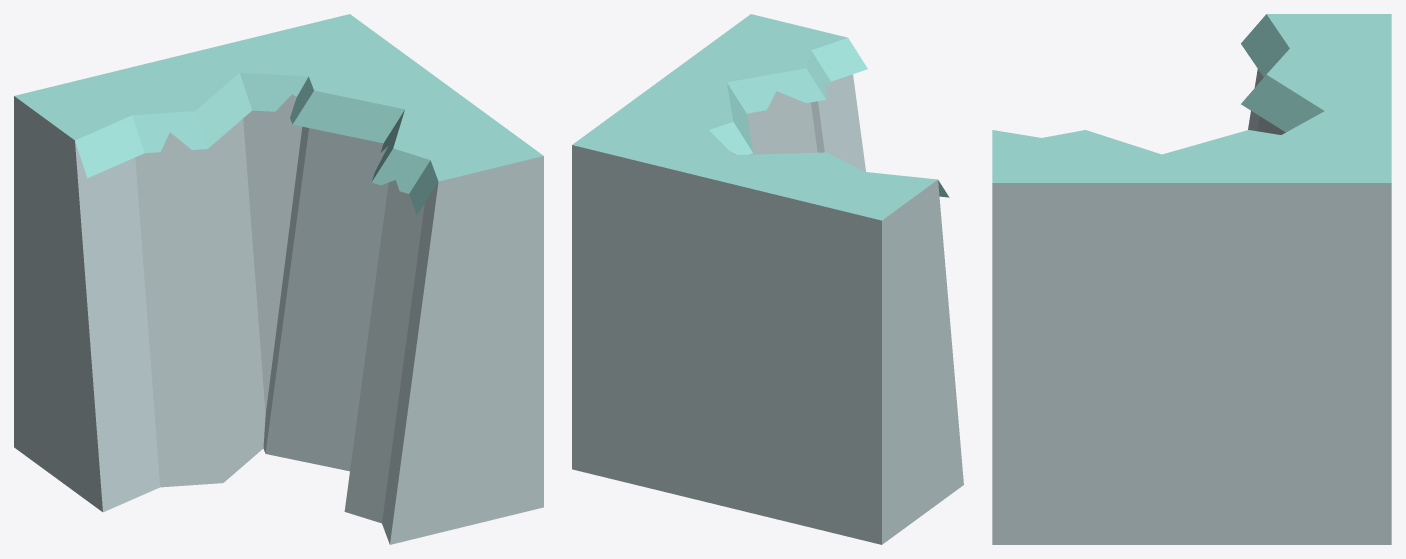
Rendered from cliffGrey_cornerInnerTop.glb.
The picture shows the model from 3 angles, left to right: view 1: azimuth 30°, elevation 25°; view 2: azimuth 150°, elevation 25°; view 3: azimuth 270°, elevation 25°; orthographic projection. The views are drawn at different scales.
Visible parts, largest first — view 1: cliffGrey_cornerInnerTop; view 2: cliffGrey_cornerInnerTop; view 3: cliffGrey_cornerInnerTop.
Boxes of the visible parts, box(x1,y1,x2,y2) form: cliffGrey_cornerInnerTop: box(14, 14, 543, 544); cliffGrey_cornerInnerTop: box(572, 14, 963, 544); cliffGrey_cornerInnerTop: box(992, 14, 1391, 544).
Size of the model in its own units: 1 by 1 by 1.
